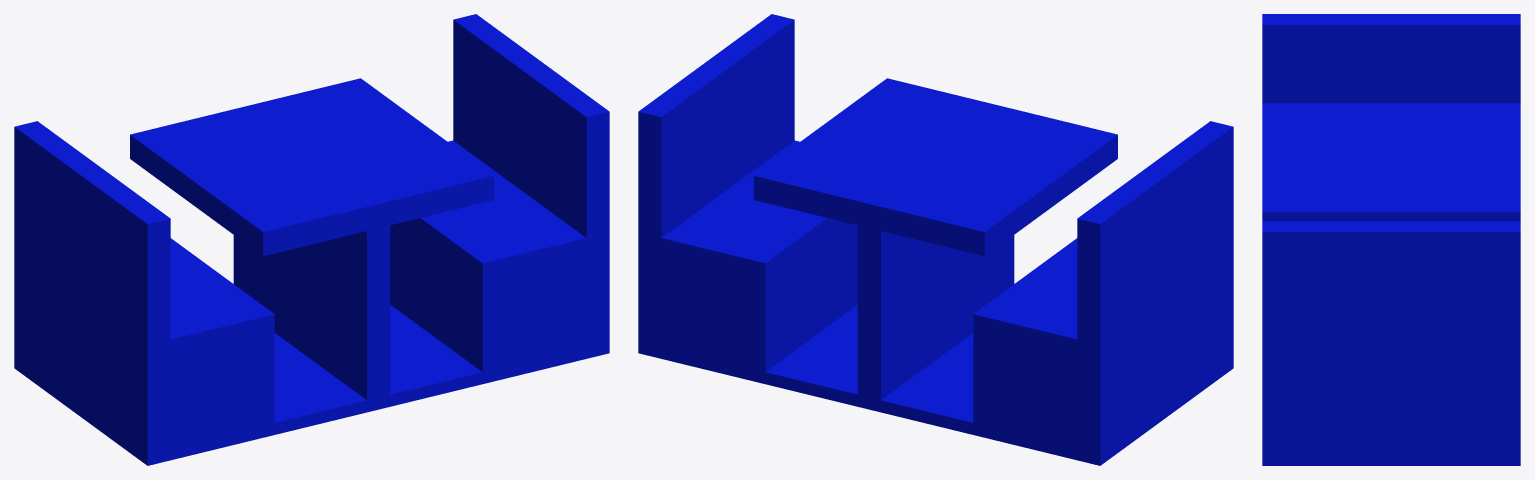
Rendered from table.dae.
3 renders of one model, left to right at view 1: azimuth 30°, elevation 25°; view 2: azimuth 150°, elevation 25°; view 3: azimuth 270°, elevation 25°, orthographic. The views are drawn at different scales.
Parts seen in each view (by area): view 1: table_non; view 2: table_non; view 3: table_non.
Part boxes in pixels (x1=…): table_non: x1=14, y1=14, x2=609, y2=465; table_non: x1=638, y1=14, x2=1233, y2=465; table_non: x1=1262, y1=14, x2=1520, y2=465.
Bounding box in the file's own units: 0.6 × 0.3 × 0.3.
